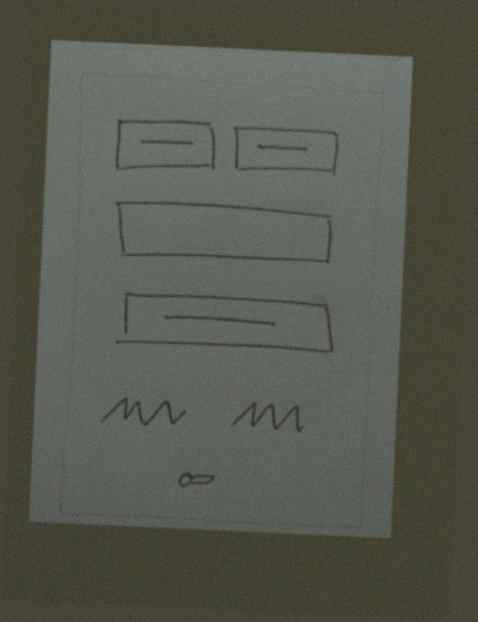button: (109, 284, 349, 361), (103, 109, 230, 180), (232, 119, 350, 183)
switch: (169, 462, 226, 493)
text: (88, 382, 199, 437), (226, 391, 311, 440)
text_input: (106, 196, 344, 273)
